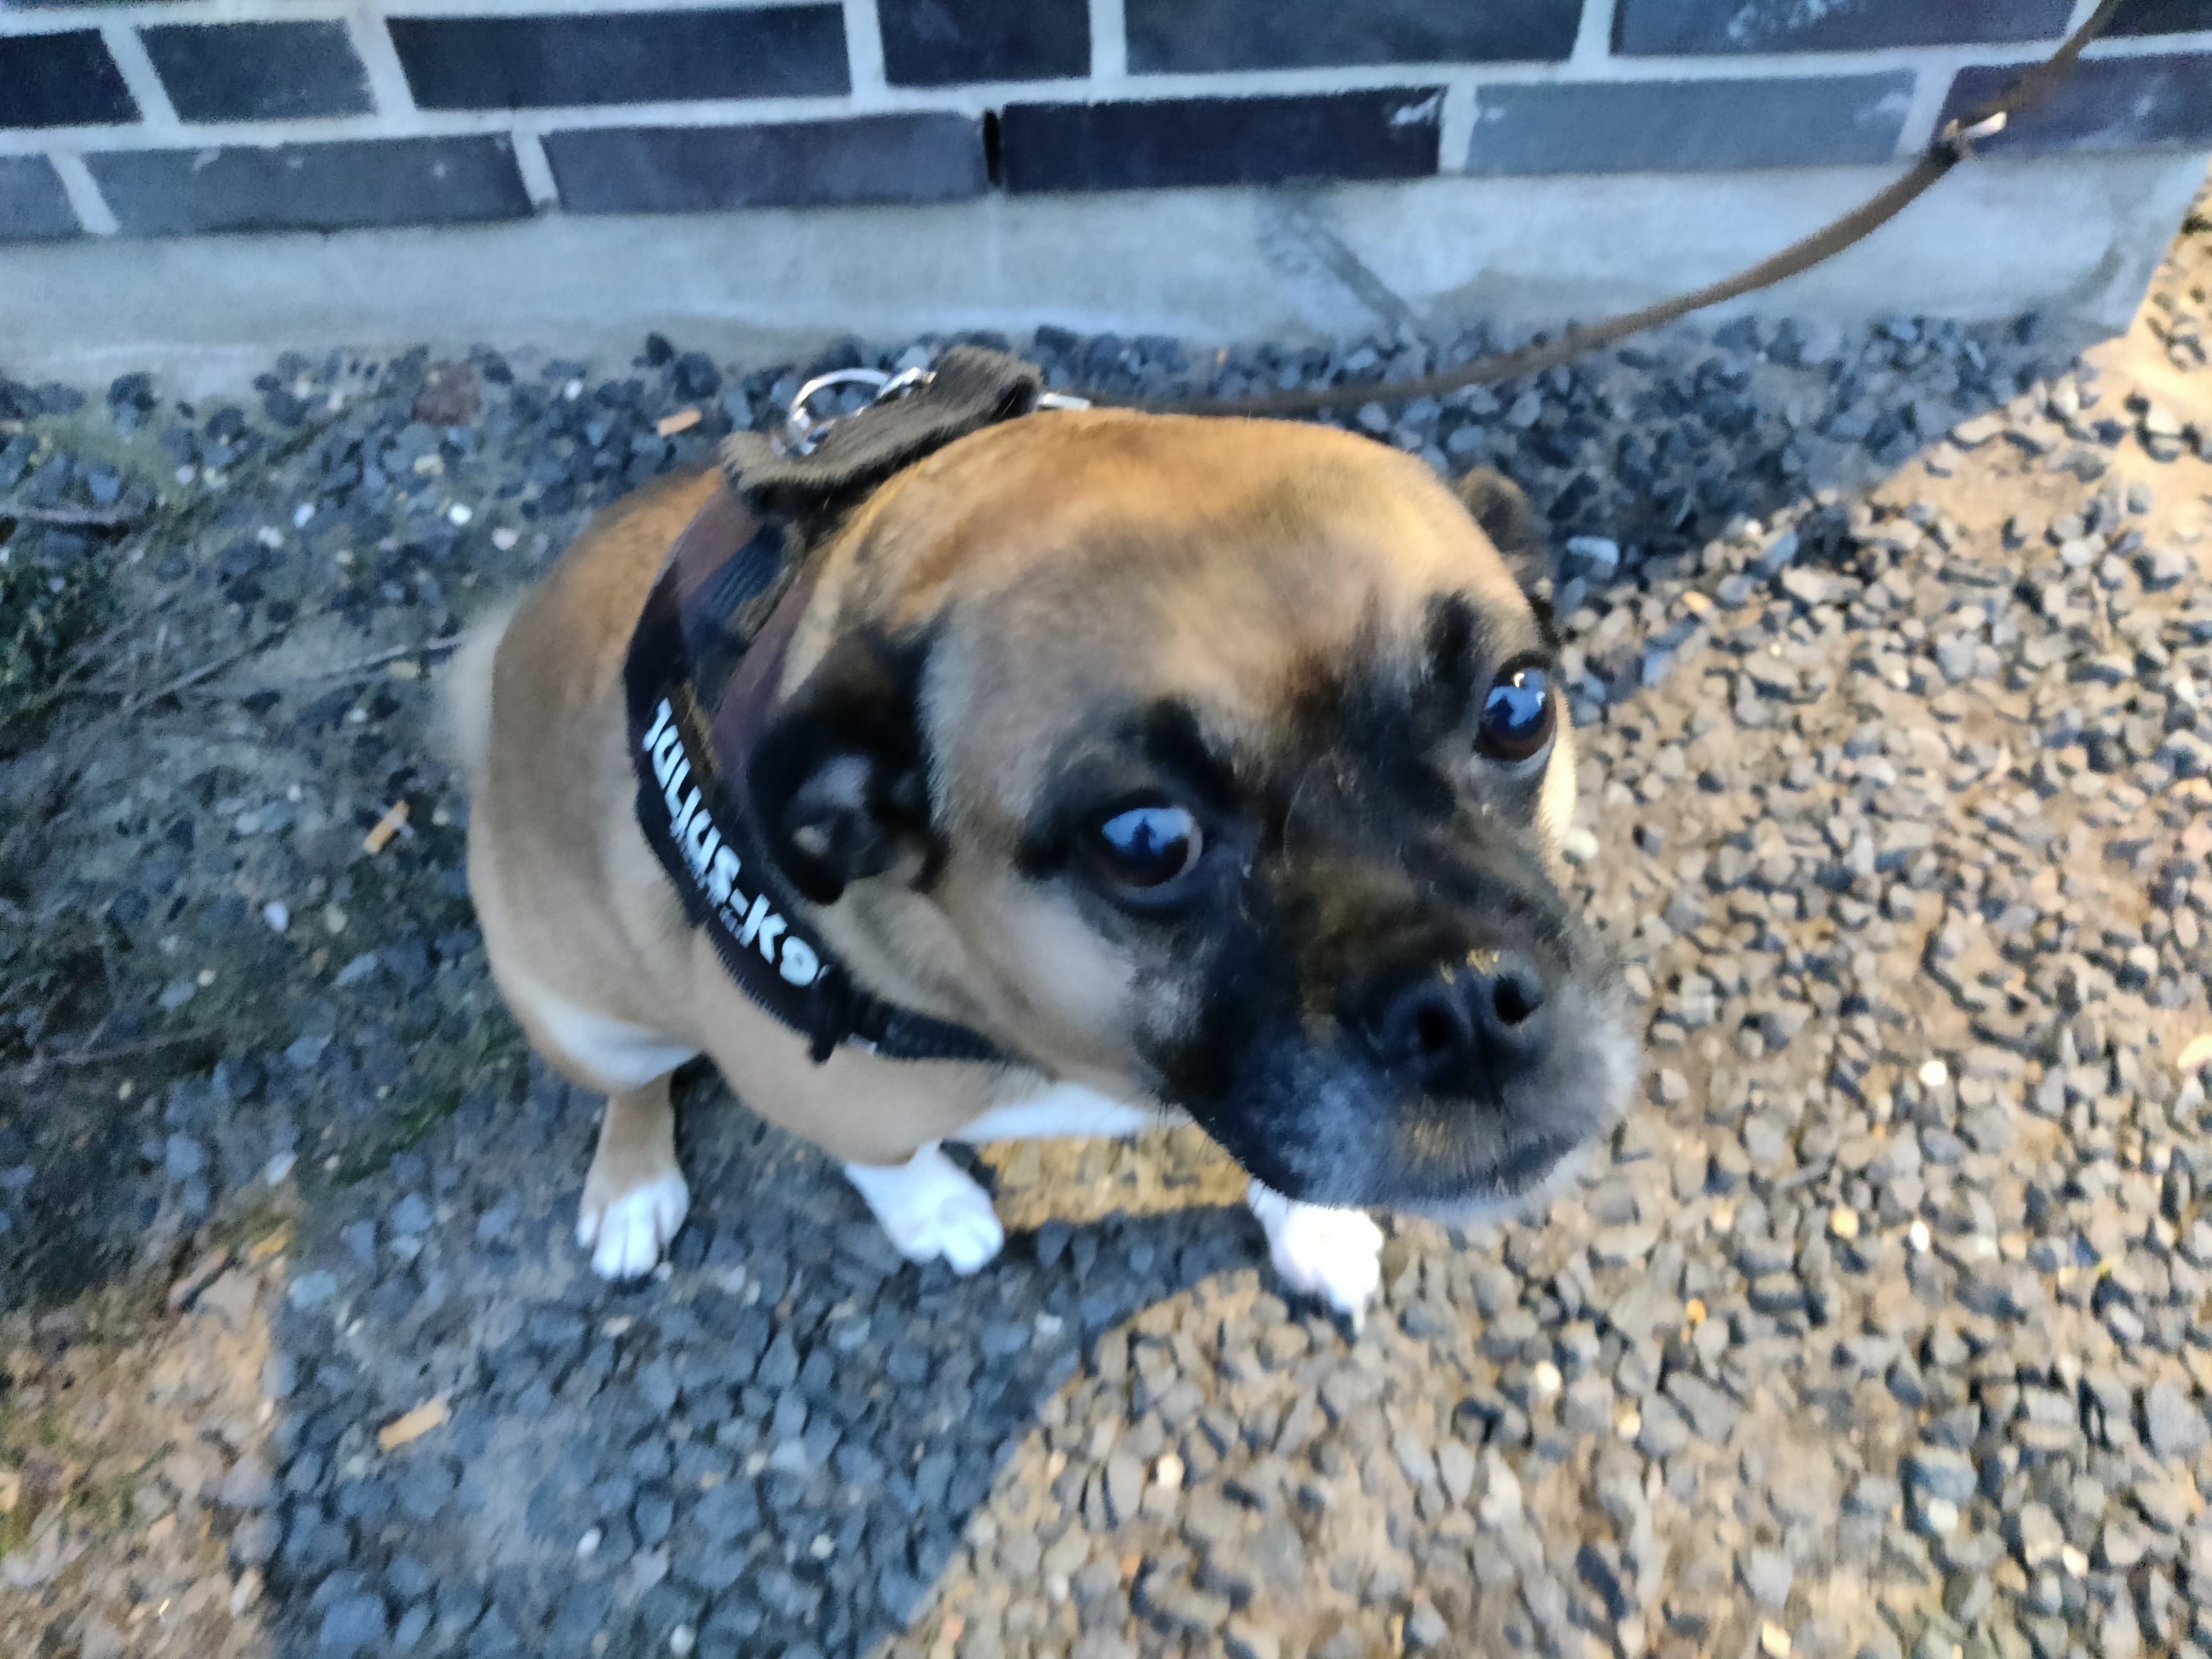Dog: (435, 368, 1642, 1344)
